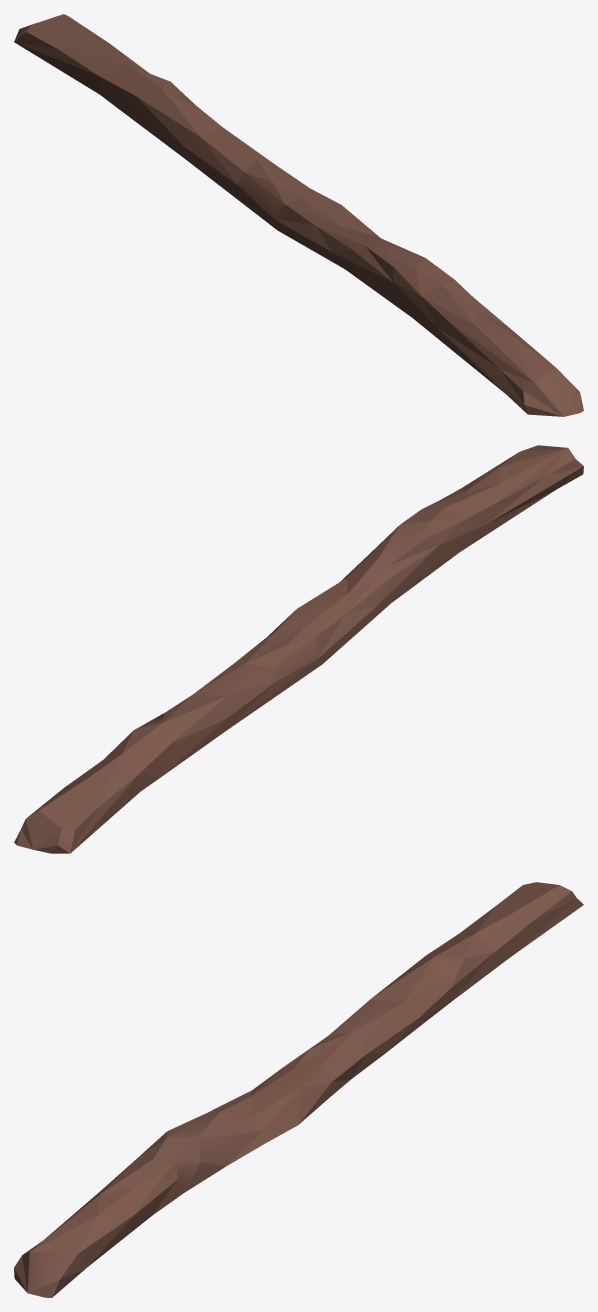
The model's file is garden_bed_002.glb.
3 views of the same model, one above another, from view 1: azimuth 30°, elevation 25°; view 2: azimuth 150°, elevation 25°; view 3: azimuth 330°, elevation 25° (orthographic). The views are drawn at different scales.
Visible parts, largest first — view 1: garden_bed_002; view 2: garden_bed_002; view 3: garden_bed_002.
Part boxes in pixels (x1,y1,x2,y2): garden_bed_002: [14, 14, 583, 416]; garden_bed_002: [14, 445, 583, 853]; garden_bed_002: [14, 882, 583, 1297].
Bounding box in the file's own units: 1.78 × 1.2 × 23.98.
Materials: 1 (1 with a texture image).
